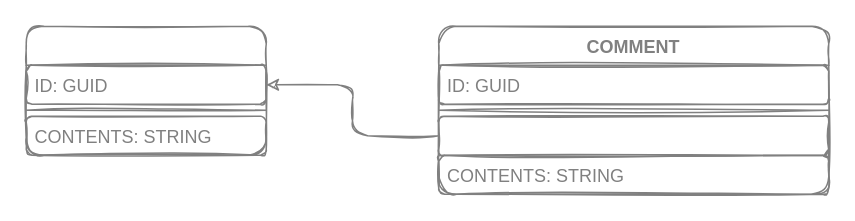
Some shapes in this 855 by 221 pixel diagram are drawn without their labels. Here are the shapes that lost their labels. From the top down, the box of each, then its label:
(25, 25, 266, 155): POST
(437, 115, 829, 155): POSTID: GUID
